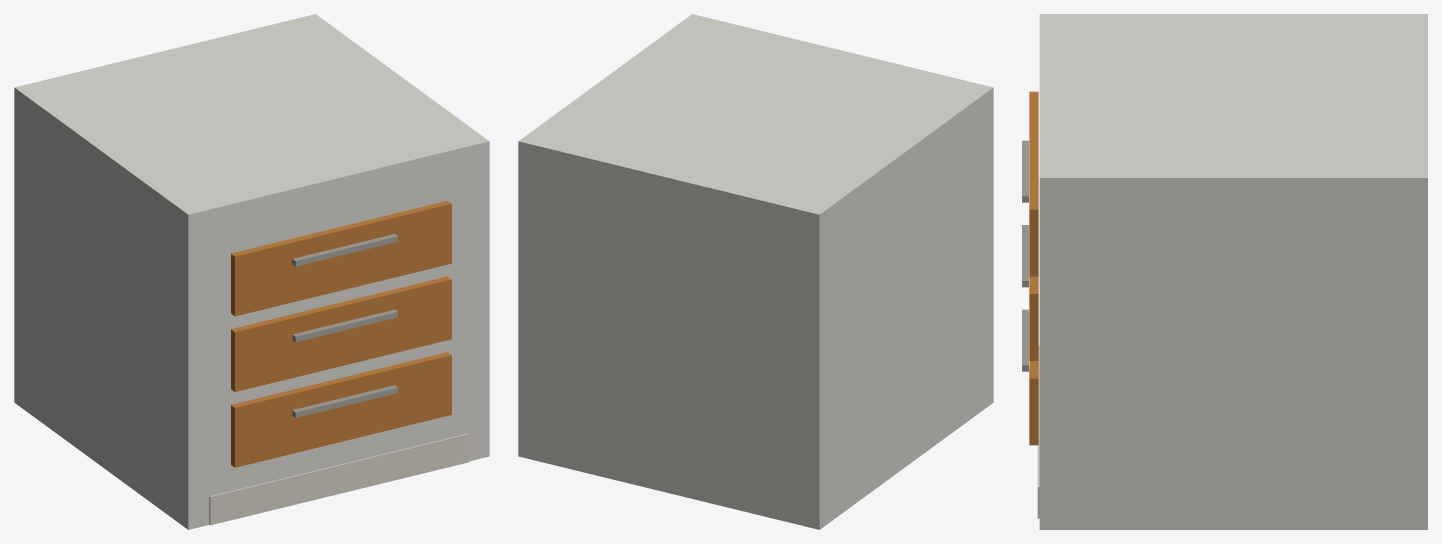
Rendered from flatBaseDrawer.glb.
The picture shows the model from 3 angles, left to right: view 1: azimuth 30°, elevation 25°; view 2: azimuth 150°, elevation 25°; view 3: azimuth 270°, elevation 25°; orthographic projection. The views are drawn at different scales.
Visible parts, largest first — view 1: body, drawer3, drawer1, drawer2, toeKick, handle (×3); view 2: body; view 3: body, drawer1, drawer2, drawer3.
Boxes of the visible parts, x1,y1,x2,y2 form: body: (14,14,489,529); drawer3: (231,352,451,467); drawer1: (231,200,451,316); drawer2: (231,276,451,391); toeKick: (209,433,469,525); handle (×3): (292,234,397,417); body: (518,14,993,529); body: (1039,14,1427,529); drawer1: (1029,91,1038,276); drawer2: (1029,276,1038,360); drawer3: (1029,361,1038,445).
Size of the model in its own units: 1 by 1 by 1.04.
